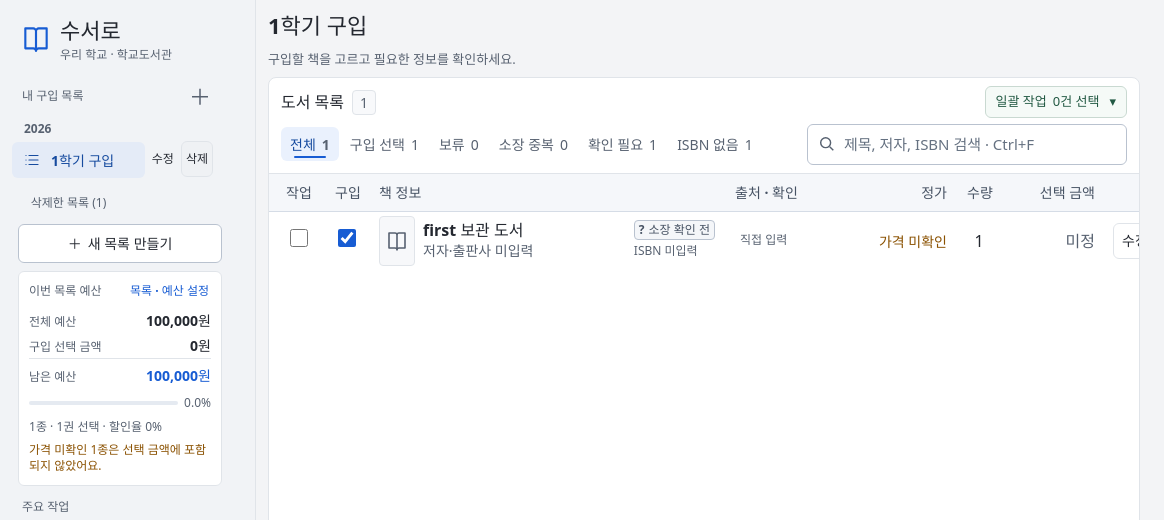
restores a previously deleted list after reopening the application
expect the button "first 보관 도서" is shown: met, box [423, 220, 626, 240]
Click the heading "삭제한 목록 (1)": (68, 203) [31, 194, 106, 211]
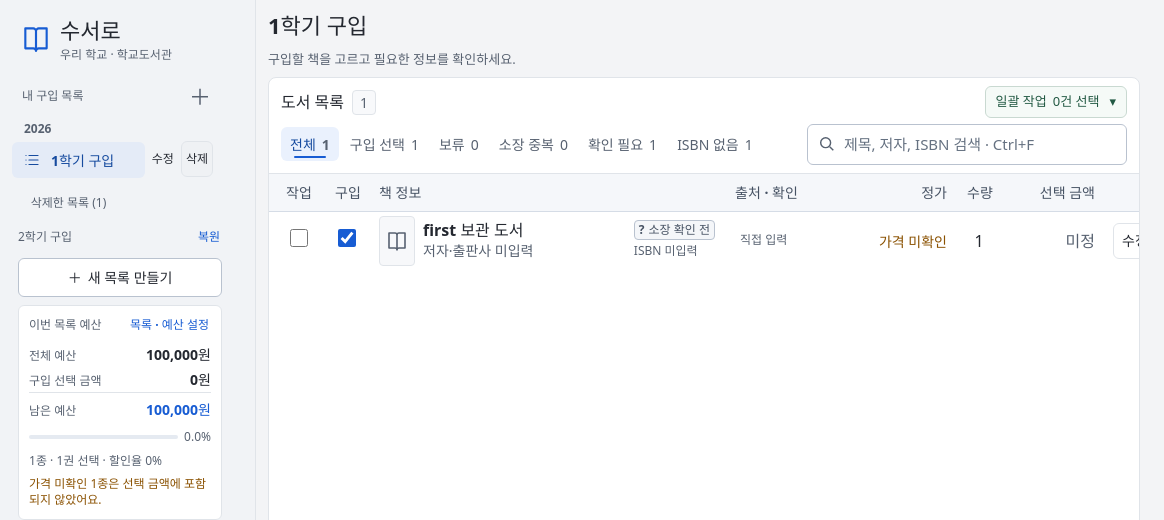
Click the button with aria-label "2학기 구입 목록 복원": (209, 237) [196, 226, 222, 248]
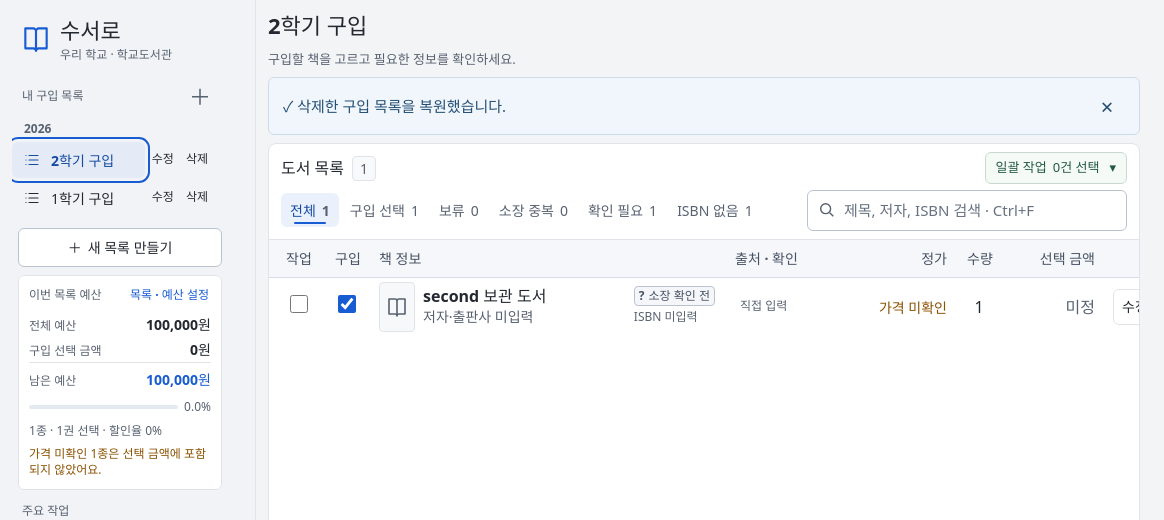
expect the button "second 보관 도서" is shown: met, box [423, 286, 626, 306]
expect the heading "삭제한 목록 (1)" is gone: met
